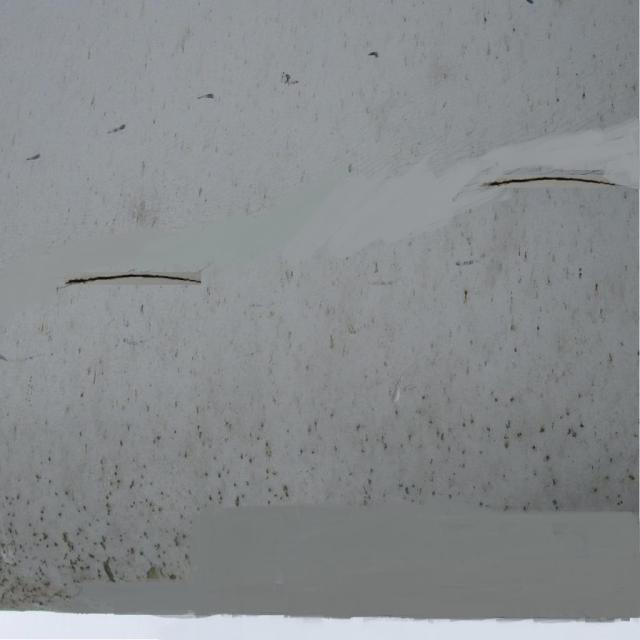crack: (53, 271, 209, 297), (477, 177, 619, 190)
